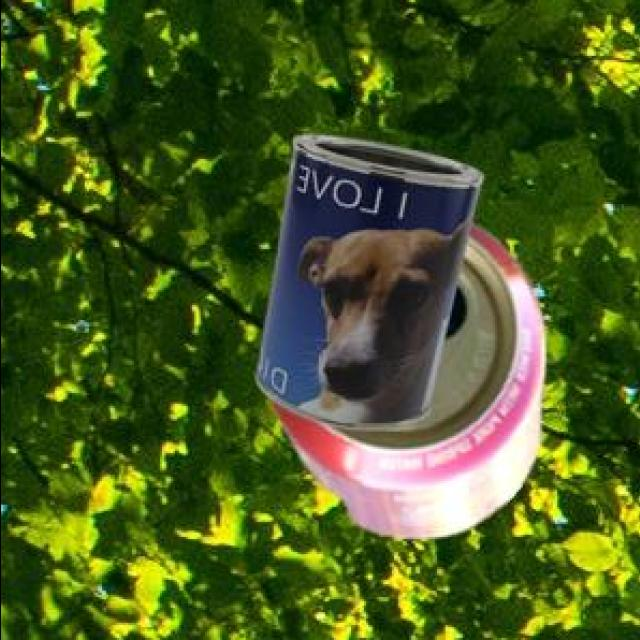logam: (276, 227, 547, 542), (259, 139, 486, 433)
